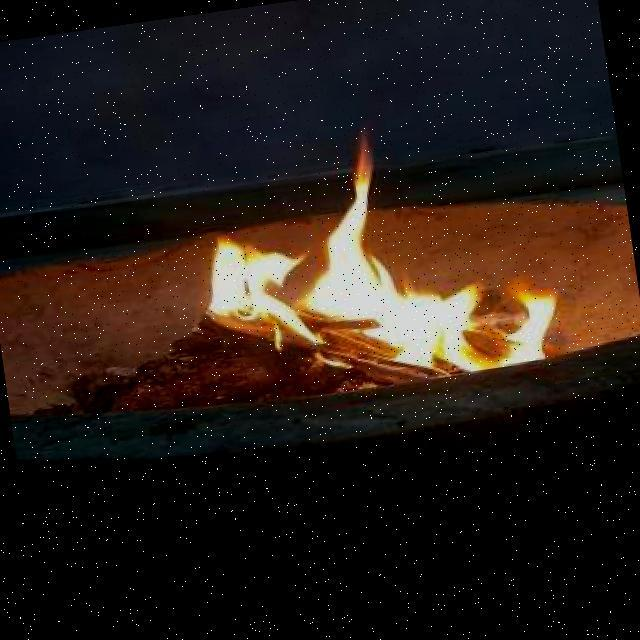Fire: (173, 102, 561, 405)
